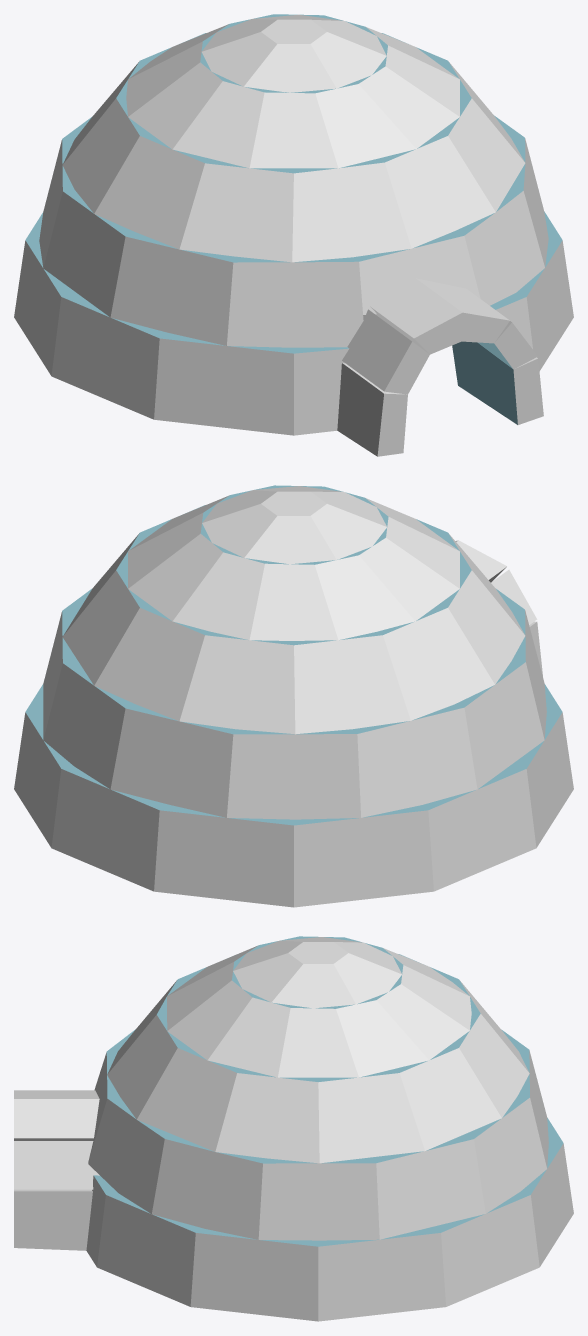
File: igloo01.fbx
The picture shows the model from 3 angles, top to bottom: view 1: azimuth 30°, elevation 25°; view 2: azimuth 150°, elevation 25°; view 3: azimuth 270°, elevation 25°; orthographic projection. The views are drawn at different scales.
Parts seen in each view (by area): view 1: igloo_01; view 2: igloo_01; view 3: igloo_01.
Boxes of the visible parts, left/top/right/bottom form: igloo_01: left=14, top=14, right=573, bottom=456; igloo_01: left=14, top=485, right=573, bottom=907; igloo_01: left=14, top=936, right=573, bottom=1321.
Bounding box in the file's own units: 4 × 4.38 × 2.25.
